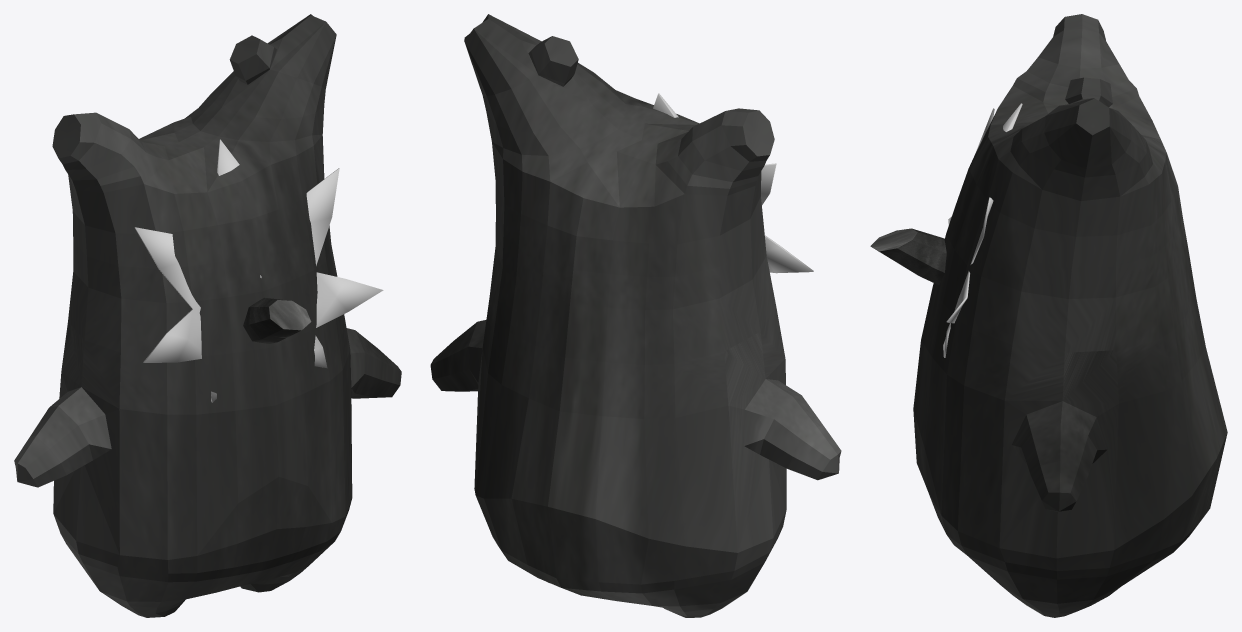
File: frame_0078.obj
3 views of the same model, side by side, from view 1: azimuth 30°, elevation 25°; view 2: azimuth 150°, elevation 25°; view 3: azimuth 270°, elevation 25° (orthographic). The views are drawn at different scales.
Visible parts, largest first — view 1: korok, leaf.003_柱体.013, nose.003_柱体.011; view 2: korok, leaf.003_柱体.013; view 3: korok, nose.003_柱体.011, leaf.003_柱体.013.
Part boxes in pixels (x1,y1,x2,y2): korok: (14, 14, 401, 617); leaf.003_柱体.013: (134, 139, 383, 402); nose.003_柱体.011: (243, 297, 311, 343); korok: (430, 14, 841, 617); leaf.003_柱体.013: (653, 93, 813, 273); korok: (913, 14, 1227, 617); nose.003_柱体.011: (870, 228, 946, 284); leaf.003_柱体.013: (943, 103, 1022, 357).
Bounding box in the file's own units: 1.67 × 2.25 × 1.33.
